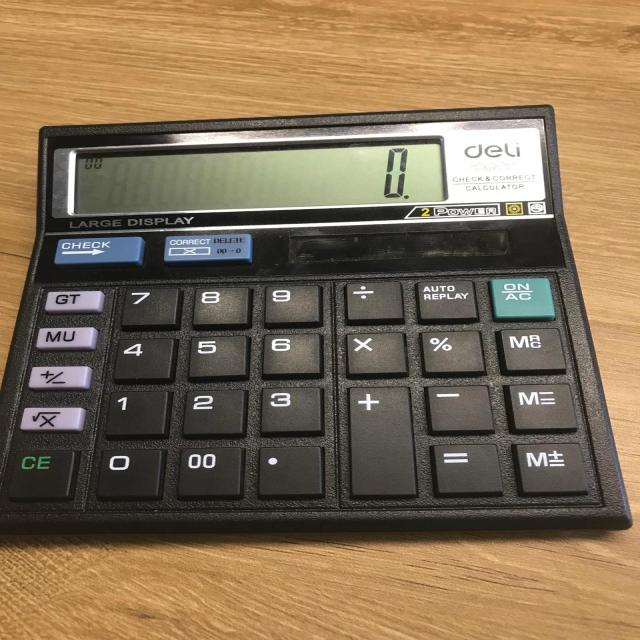calculator: (1, 103, 633, 535)
